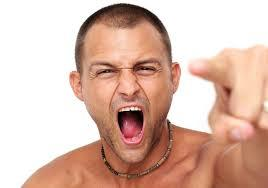Persons: (62, 5, 189, 167)
